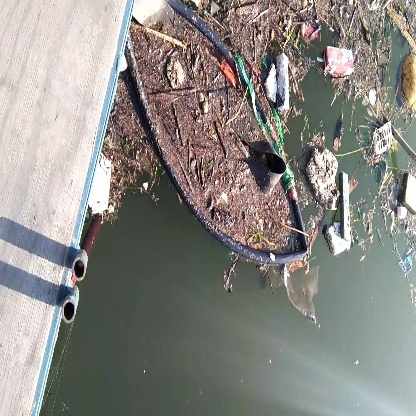milk-box: (273, 51, 303, 117), (323, 36, 359, 83)
